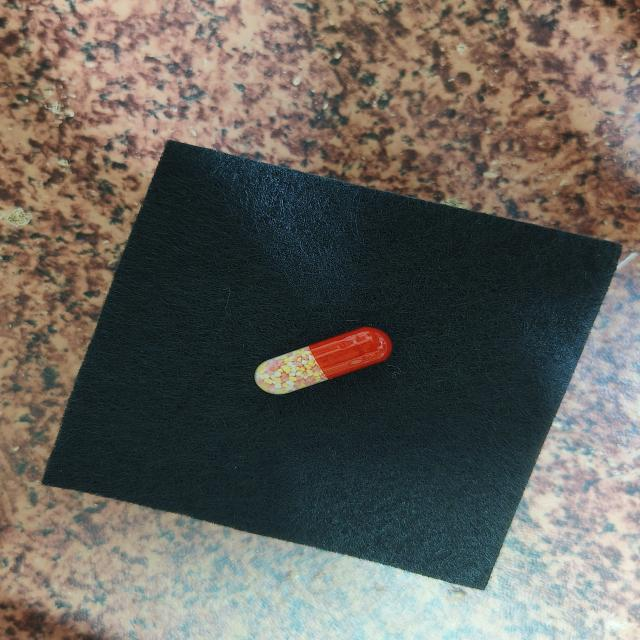Intact Capsule: (254, 327, 392, 395)
